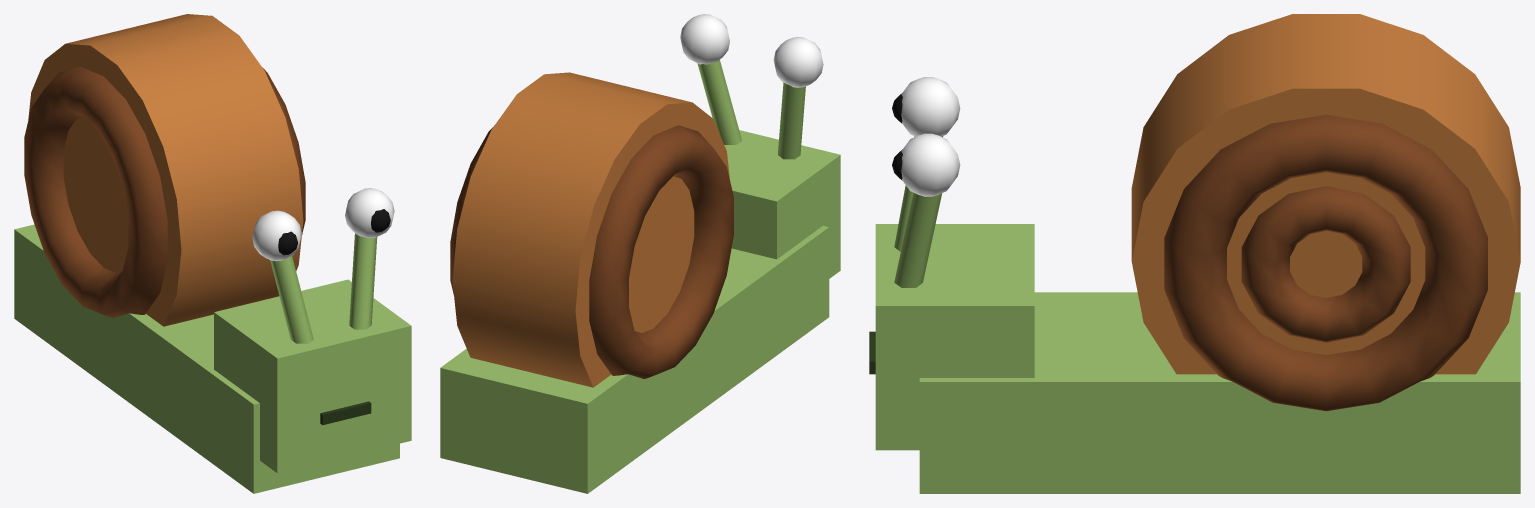
File: pet_snail.glb
3 views of the same model, side by side, from view 1: azimuth 30°, elevation 25°; view 2: azimuth 150°, elevation 25°; view 3: azimuth 270°, elevation 25° (orthographic). The views are drawn at different scales.
Visible parts, largest first — view 1: shell, body, eyestalk_L, eyestalk_R; view 2: shell, body, eyestalk_L, eyestalk_R; view 3: shell, body, eyestalk_L, eyestalk_R.
Part boxes in pixels (x1=…): shell: x1=24, y1=14, x2=305, y2=326; body: x1=14, y1=224, x2=411, y2=493; eyestalk_L: x1=345, y1=188, x2=394, y2=329; eyestalk_R: x1=252, y1=210, x2=313, y2=343; shell: x1=450, y1=72, x2=733, y2=387; body: x1=440, y1=130, x2=840, y2=493; eyestalk_L: x1=680, y1=14, x2=741, y2=144; eyestalk_R: x1=773, y1=36, x2=823, y2=159; shell: x1=1131, y1=14, x2=1520, y2=411; body: x1=869, y1=224, x2=1520, y2=493; eyestalk_L: x1=892, y1=133, x2=960, y2=287; eyestalk_R: x1=892, y1=77, x2=960, y2=251.
Bounding box in the file's own units: 0.1352 × 0.2483 × 0.3685.
